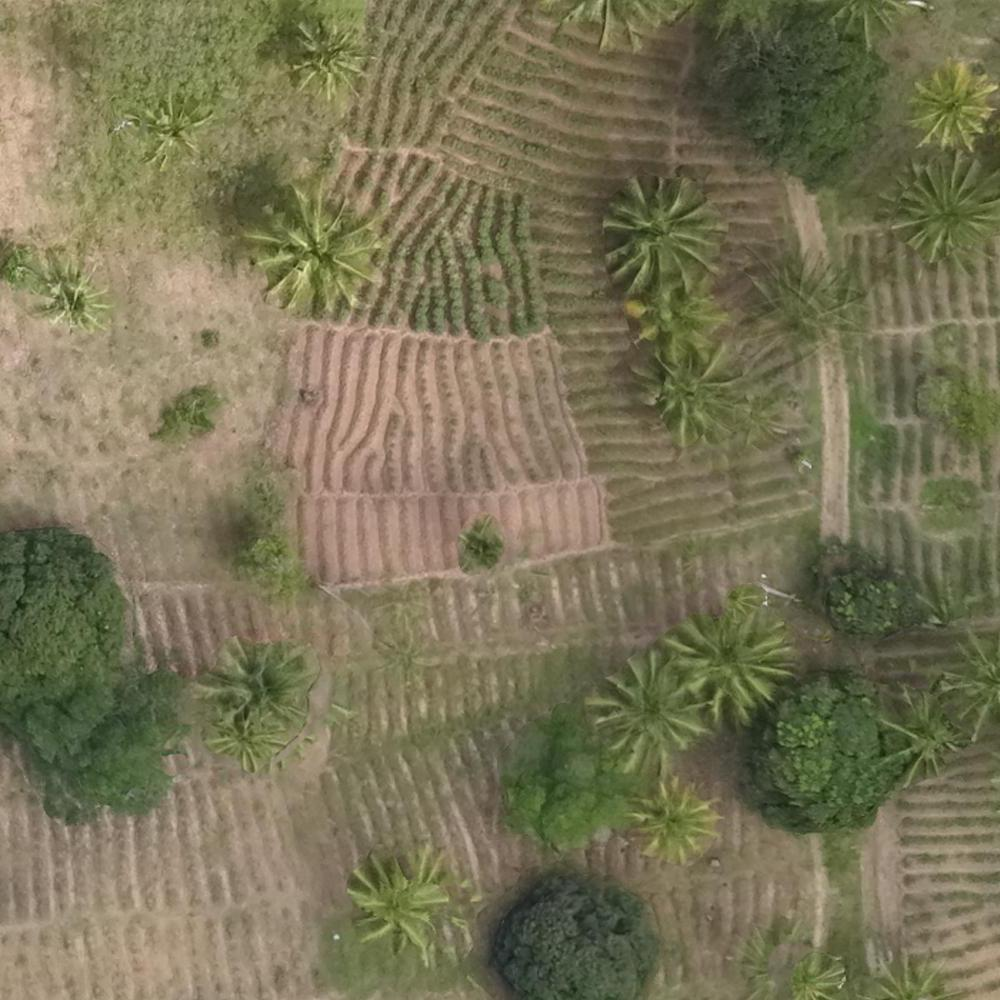Palm: (249, 189, 372, 315), (603, 176, 722, 295), (588, 652, 704, 771), (674, 600, 787, 713), (891, 158, 1000, 270), (632, 341, 743, 446), (349, 847, 449, 951), (872, 688, 960, 780), (284, 19, 371, 98), (32, 248, 110, 335), (915, 61, 992, 149), (636, 778, 718, 857), (136, 89, 214, 169), (204, 704, 284, 772)
